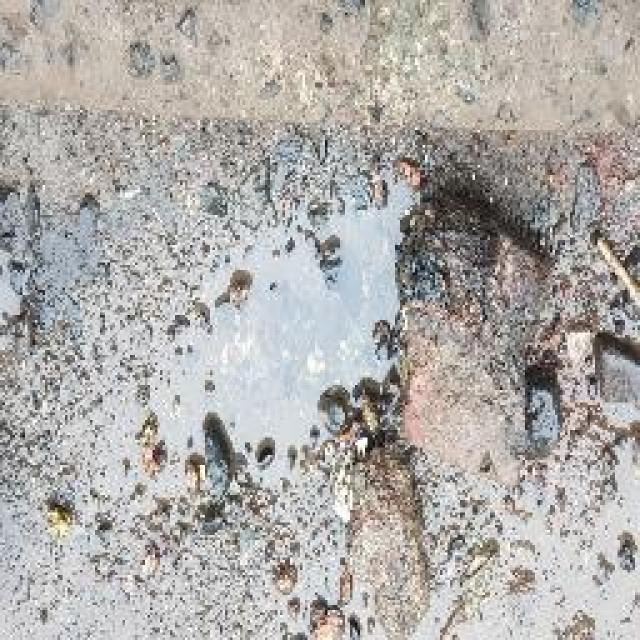waterlogging: (126, 189, 422, 476)
